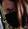with_mask: (1, 1, 28, 29)
